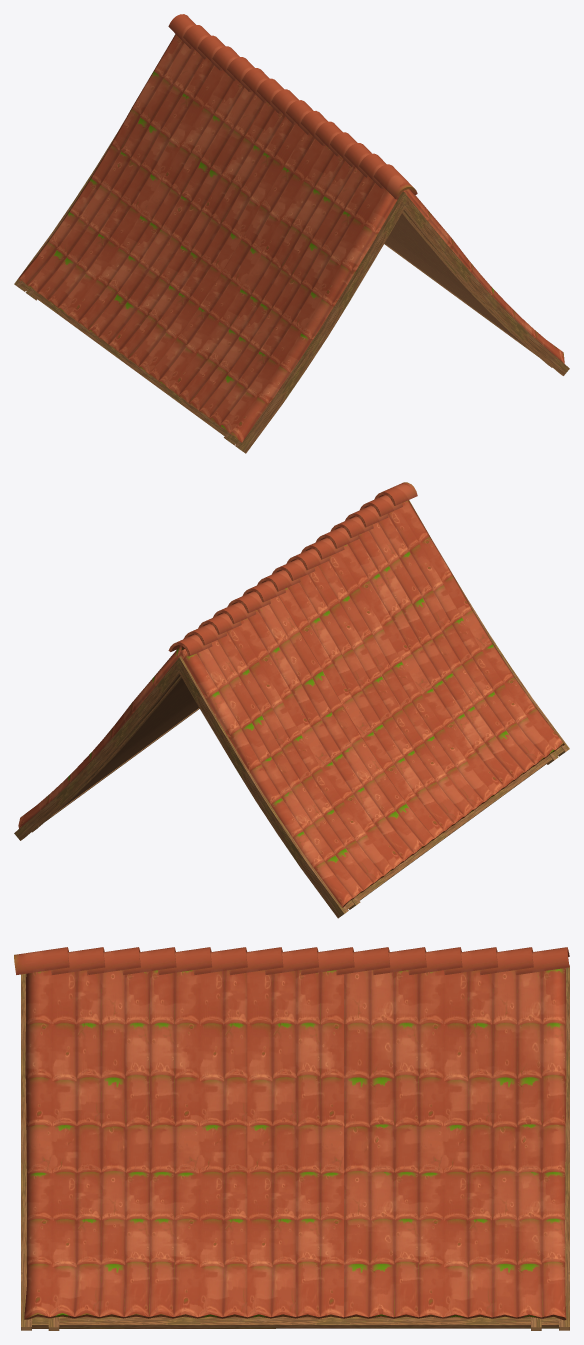
Rendered from Roof_RoundTiles_8x10.gltf.
The picture shows the model from 3 angles, top to bottom: view 1: azimuth 30°, elevation 25°; view 2: azimuth 150°, elevation 25°; view 3: azimuth 270°, elevation 25°; orthographic projection. The views are drawn at different scales.
Visible parts, largest first — view 1: Roof_RoundTiles_8x10; view 2: Roof_RoundTiles_8x10; view 3: Roof_RoundTiles_8x10.
Part boxes in pixels (bbox=[...]): Roof_RoundTiles_8x10: bbox=[14, 14, 569, 453]; Roof_RoundTiles_8x10: bbox=[14, 482, 569, 918]; Roof_RoundTiles_8x10: bbox=[14, 947, 569, 1330].
Bounding box in the file's own units: 9.95 × 6.78 × 11.86.
2 materials, 2 textured.
